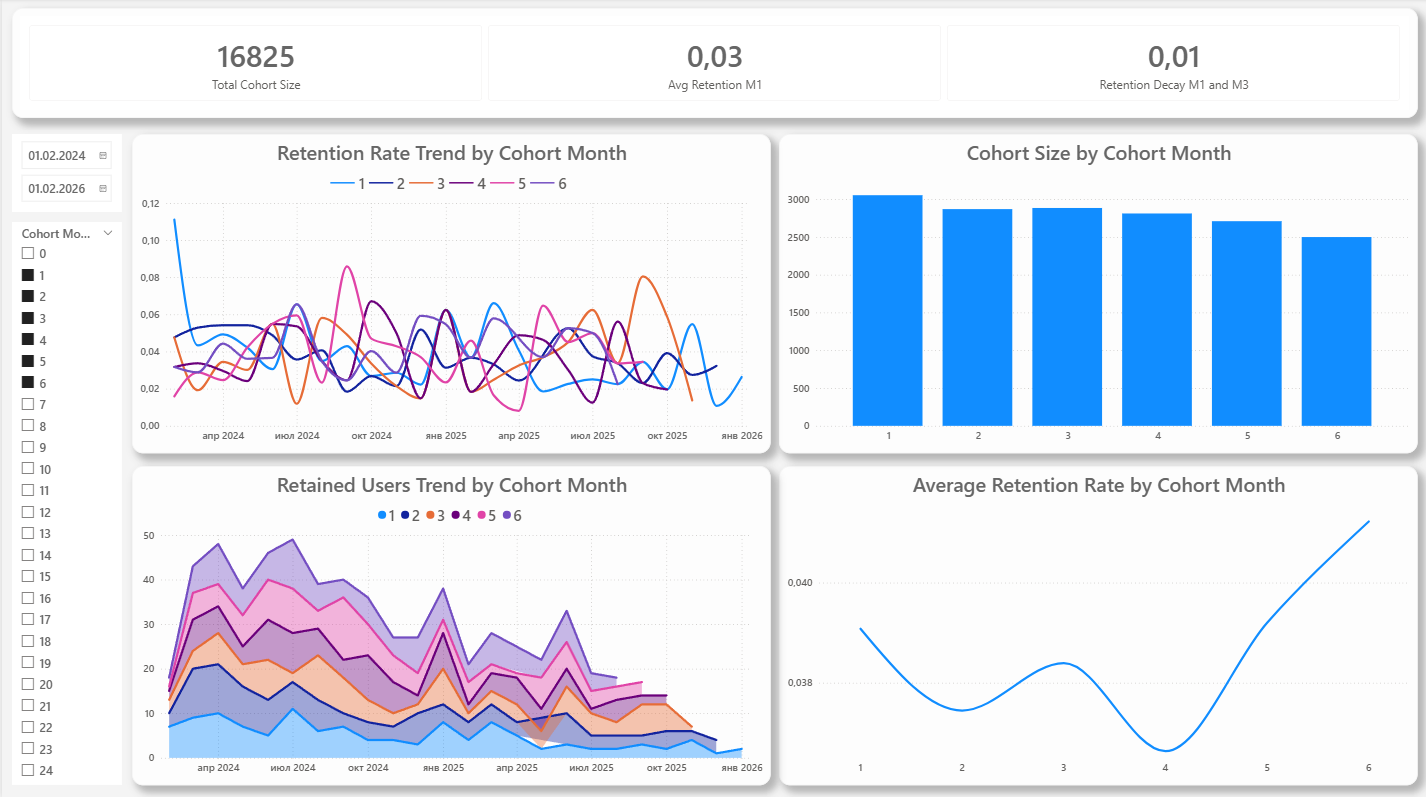

This screenshot's page, from the dashboard's own definition file:
{"tool":"powerbi","page":{"name":"Cohort","canvas":[1920,1080],"ordinal":4},"visuals":[{"type":"cardVisual","fields":{"Data":["Sum(mart v_cohort_retention_monthly.cohort_size)","mart v_cohort_retention_monthly.Avg Retention M1","mart v_cohort_retention_monthly.Retention Decay"]},"box":[13.3,13.3,1893.3,148.3],"z":0},{"type":"lineChart","title":"Retention Rate Trend by Cohort Month","fields":{"Y":["Sum(mart v_cohort_retention_monthly.retention_rate)"],"Series":["mart v_cohort_retention_monthly.month_number"],"Category":["mart v_cohort_retention_monthly.cohort_month"]},"box":[175,183.3,860,430],"z":1000},{"type":"lineChart","title":"Average Retention Rate by Cohort Month","fields":{"Y":["Avg(mart v_cohort_retention_monthly.retention_rate)"],"Category":["mart v_cohort_retention_monthly.month_number"]},"box":[1046.7,630,860,430],"z":2000},{"type":"columnChart","title":"Cohort Size by Cohort Month","fields":{"Y":["Sum(mart v_cohort_retention_monthly.cohort_size)"],"Category":["mart v_cohort_retention_monthly.month_number"]},"box":[1046.7,183.3,860,430],"z":3000},{"type":"ribbonChart","title":"Retained Users Trend by Cohort Month","fields":{"Series":["mart v_cohort_retention_monthly.month_number"],"Y":["Sum(mart v_cohort_retention_monthly.retained_users)"],"Category":["mart v_cohort_retention_monthly.cohort_month"]},"box":[175,630,860,430],"z":4000},{"type":"slicer","fields":{"Values":["mart v_cohort_retention_monthly.month_number"]},"box":[13.3,301.7,148.3,758.3],"z":5000},{"type":"slicer","fields":{"Values":["mart v_cohort_retention_monthly.cohort_month"]},"box":[13.3,183.3,148.3,105],"z":6000}]}

Visuals, with their boxes in screenshot pixels (x1, y1, x2, y2), scaled from the page's 1920x1080 canvas onto the 1426x797 screenshot:
cardVisual - Sum(mart v_cohort_retention_monthly.cohort_size) x mart v_cohort_retention_monthly.Avg Retention M1: 10 10 1416 119
"Retention Rate Trend by Cohort Month" lineChart: 130 135 769 453
"Average Retention Rate by Cohort Month" lineChart: 777 465 1416 782
"Cohort Size by Cohort Month" columnChart: 777 135 1416 453
"Retained Users Trend by Cohort Month" ribbonChart: 130 465 769 782
slicer - mart v_cohort_retention_monthly.month_number: 10 223 120 782
slicer - mart v_cohort_retention_monthly.cohort_month: 10 135 120 213
